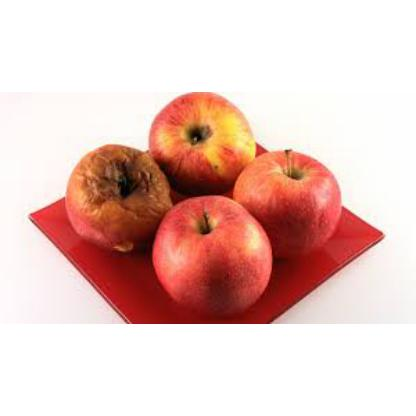apple: (155, 202, 277, 310), (231, 150, 343, 250), (149, 96, 257, 194)
damaged_apple: (61, 142, 170, 244)
